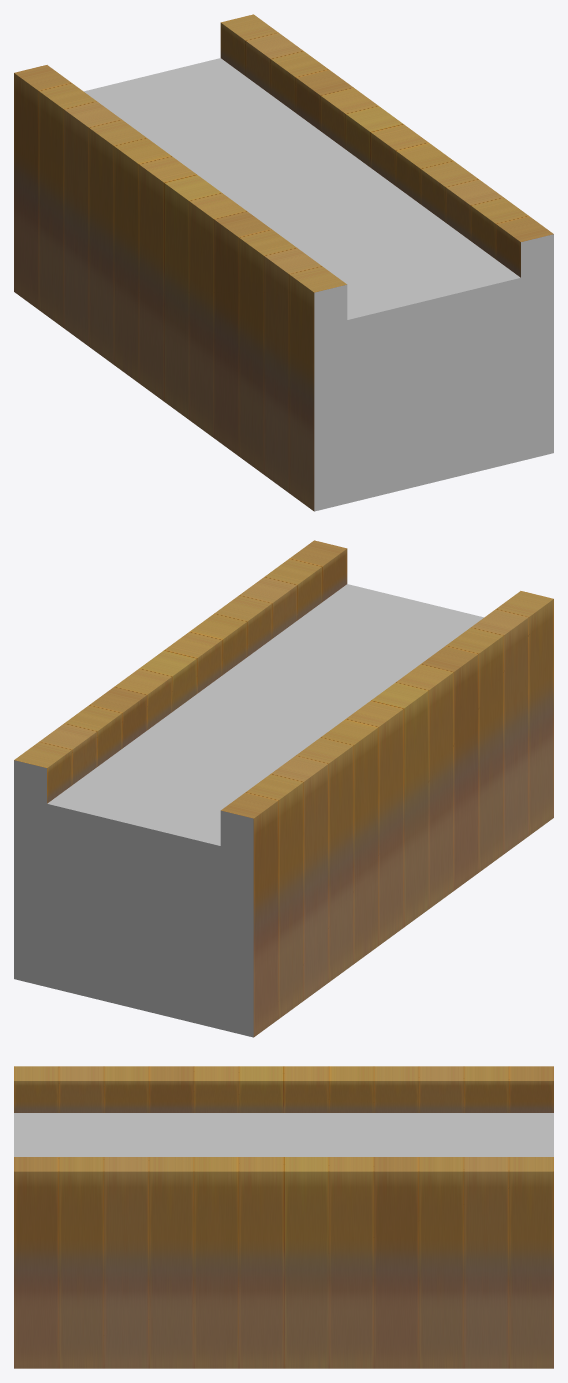
File: Bridge01_c01_col.FBX
The picture shows the model from 3 angles, top to bottom: view 1: azimuth 30°, elevation 25°; view 2: azimuth 150°, elevation 25°; view 3: azimuth 270°, elevation 25°; orthographic projection. The views are drawn at different scales.
Parts seen in each view (by area): view 1: Bridge01_c01_col; view 2: Bridge01_c01_col; view 3: Bridge01_c01_col.
Boxes of the visible parts, left/top/right/bottom form: Bridge01_c01_col: left=14, top=14, right=553, bottom=511; Bridge01_c01_col: left=14, top=540, right=553, bottom=1037; Bridge01_c01_col: left=14, top=1066, right=553, bottom=1368.
Bounding box in the file's own units: 985 × 860 × 2137.
